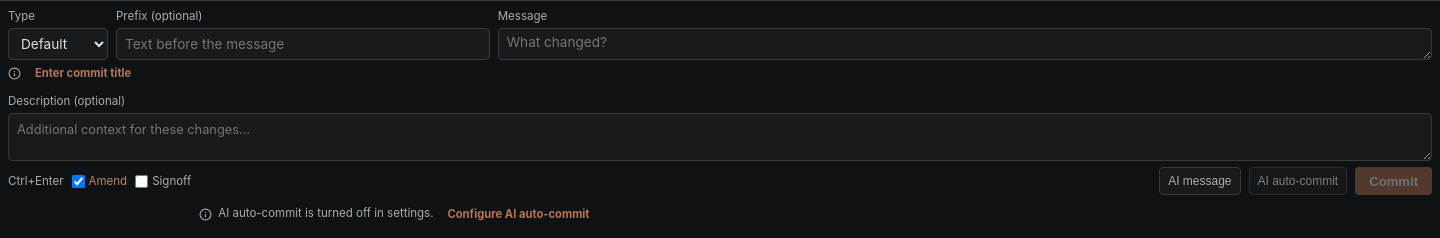
commit prerequisites › still offers the title link when amending a commit without newly staged changes
Click the button "Enter commit title" at [83, 73], box [27,62,139,84]
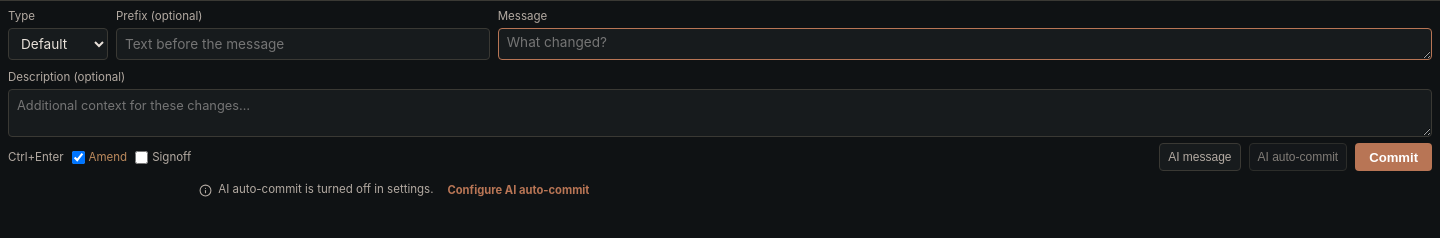
Expected: the button "Commit" is enabled, [1355,143,1432,171]
